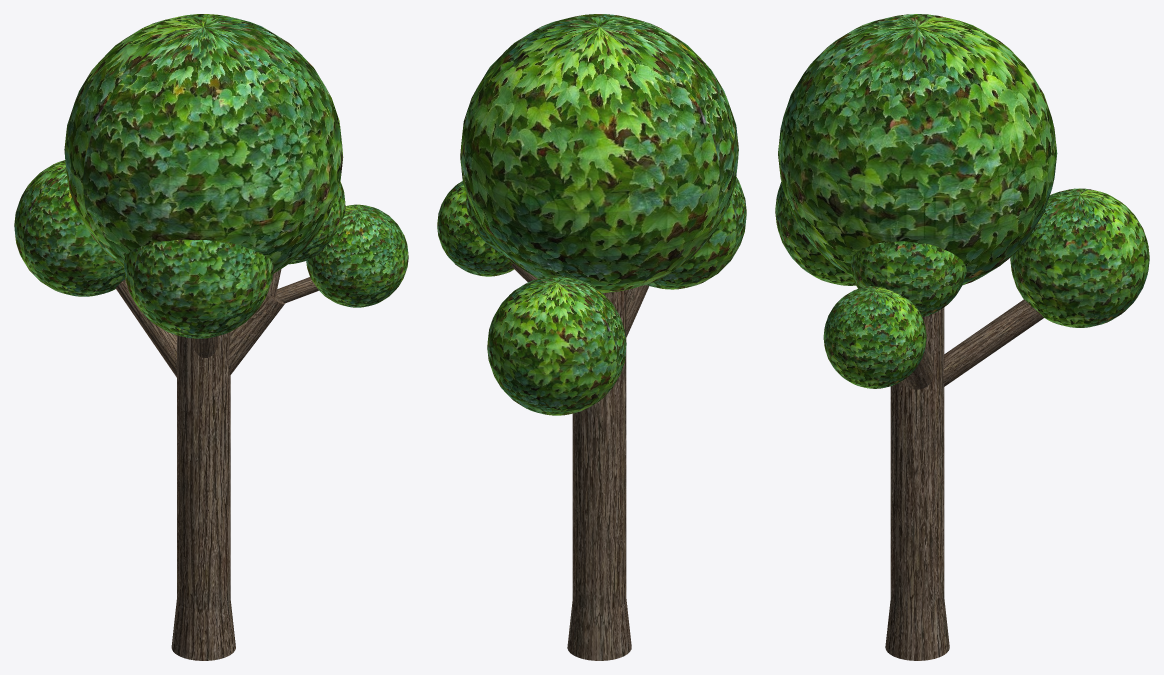
File: happylittletree.obj
3 views of the same model, side by side, from view 1: azimuth 30°, elevation 25°; view 2: azimuth 150°, elevation 25°; view 3: azimuth 270°, elevation 25° (orthographic).
Visible parts, largest first — view 1: Sphere, Cylinder, Sphere.001, Sphere.004, Sphere.003, Cylinder.003, Cylinder.001, Sphere.002, Cylinder.005; view 2: Sphere, Sphere.004, Cylinder, Sphere.003, Sphere.001, Cylinder.002; view 3: Sphere, Cylinder, Sphere.004, Sphere.003, Sphere.002, Cylinder.001, Sphere.001, Cylinder.003.
Part boxes in pixels (x1=…): Sphere: x1=64, y1=14, x2=343, y2=273; Cylinder: x1=171, y1=332, x2=235, y2=660; Sphere.001: x1=124, y1=239, x2=273, y2=338; Sphere.004: x1=14, y1=160, x2=125, y2=296; Sphere.003: x1=306, y1=204, x2=408, y2=307; Cylinder.003: x1=228, y1=294, x2=284, y2=374; Cylinder.001: x1=115, y1=279, x2=176, y2=377; Sphere.002: x1=288, y1=182, x2=345, y2=264; Cylinder.005: x1=275, y1=277, x2=318, y2=303; Sphere: x1=460, y1=14, x2=738, y2=292; Sphere.004: x1=487, y1=276, x2=626, y2=415; Cylinder: x1=567, y1=290, x2=631, y2=660; Sphere.003: x1=437, y1=181, x2=514, y2=276; Sphere.001: x1=647, y1=177, x2=746, y2=289; Cylinder.002: x1=626, y1=285, x2=649, y2=337; Sphere: x1=778, y1=14, x2=1057, y2=284; Cylinder: x1=885, y1=307, x2=949, y2=660; Sphere.004: x1=1010, y1=188, x2=1149, y2=327; Sphere.003: x1=823, y1=286, x2=926, y2=388; Sphere.002: x1=850, y1=241, x2=966, y2=316; Cylinder.001: x1=943, y1=299, x2=1043, y2=386; Sphere.001: x1=775, y1=182, x2=855, y2=285; Cylinder.003: x1=901, y1=343, x2=933, y2=389.
Bounding box in the file's own units: 3.2 × 6.37 × 3.49.
2 materials, 2 textured.
